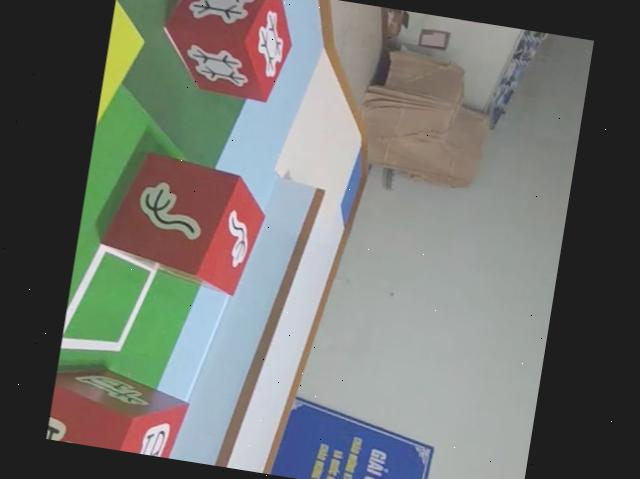R2 Real: (94, 142, 274, 298), (46, 353, 202, 461), (156, 0, 303, 108)
